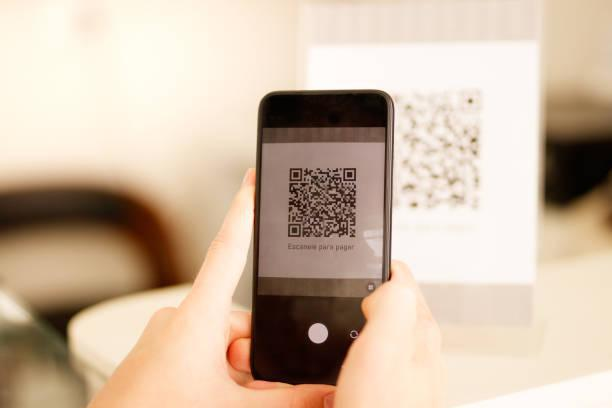Finder pattern: (285, 166, 305, 183), (339, 168, 359, 183), (286, 222, 303, 239)
